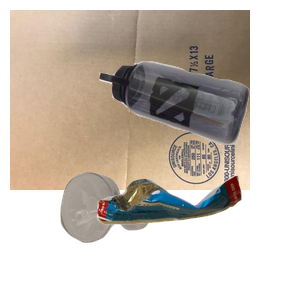cardboard: (10, 10, 250, 190)
glass: (58, 170, 202, 300)
plastic: (97, 59, 300, 197)
trash: (94, 173, 300, 300)
